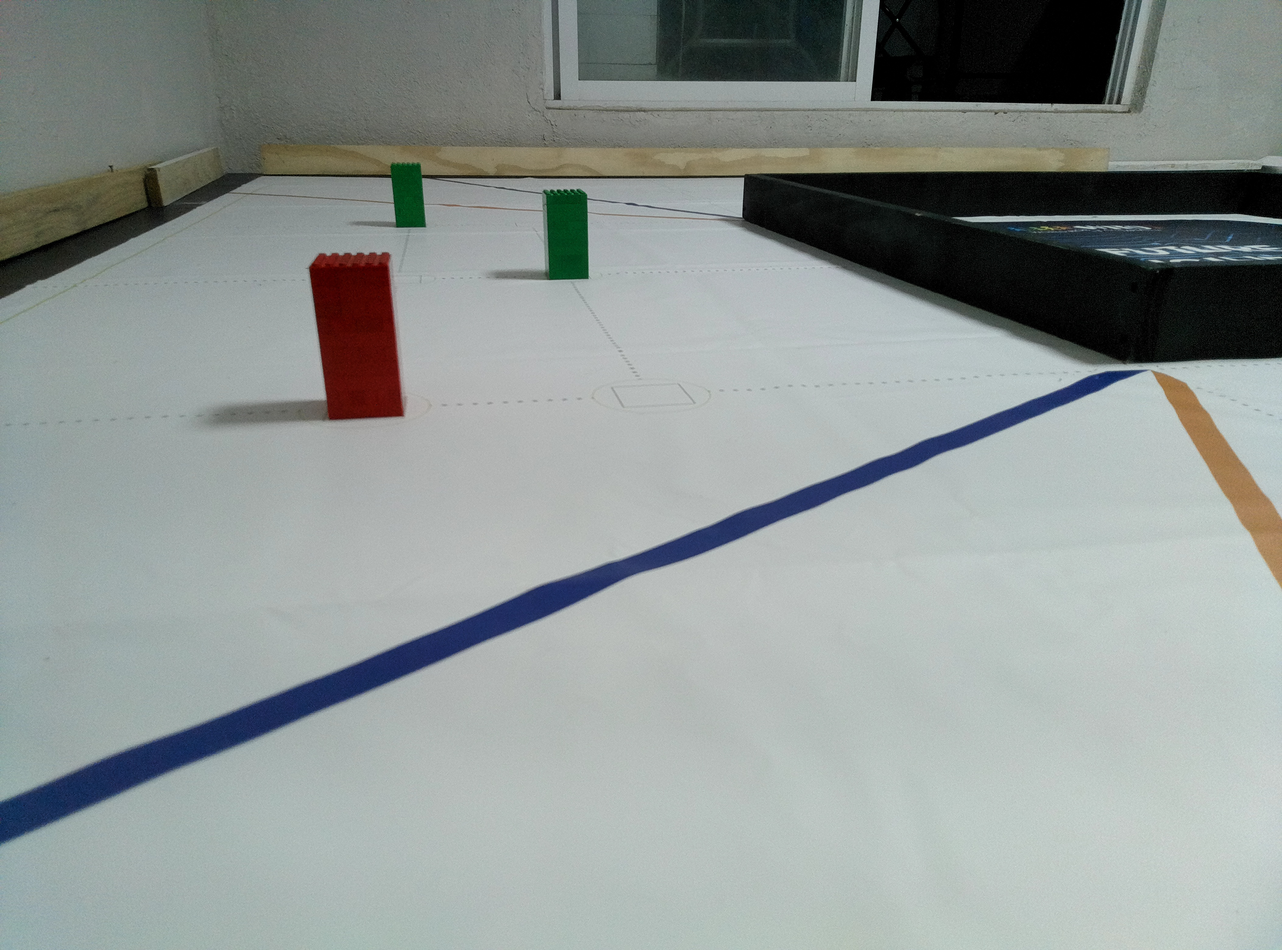greenbox: (541, 189, 590, 280), (390, 162, 426, 228)
redbox: (309, 250, 407, 421)
